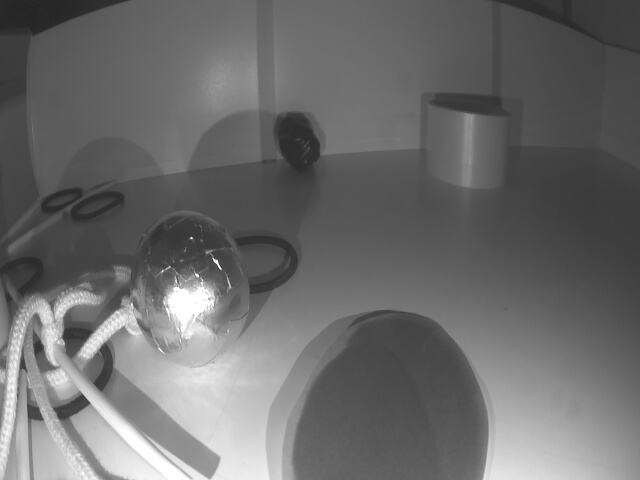Dead: (278, 112, 318, 167)
Live: (130, 215, 245, 367)
